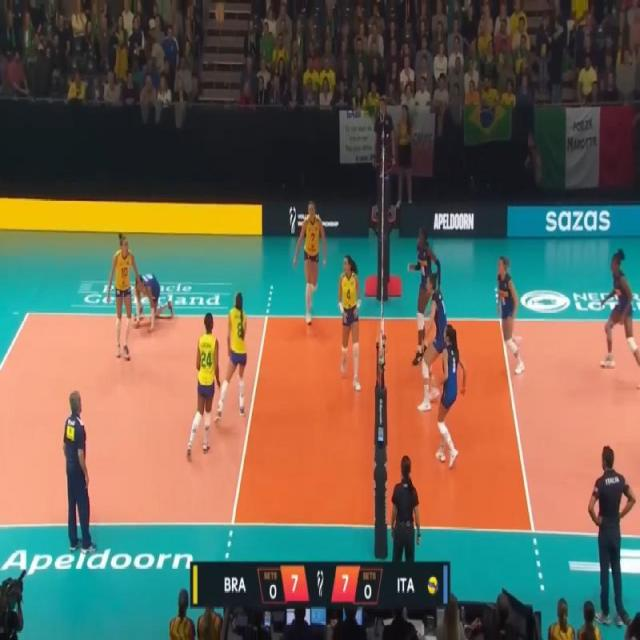volleyball: (214, 2, 226, 24)
